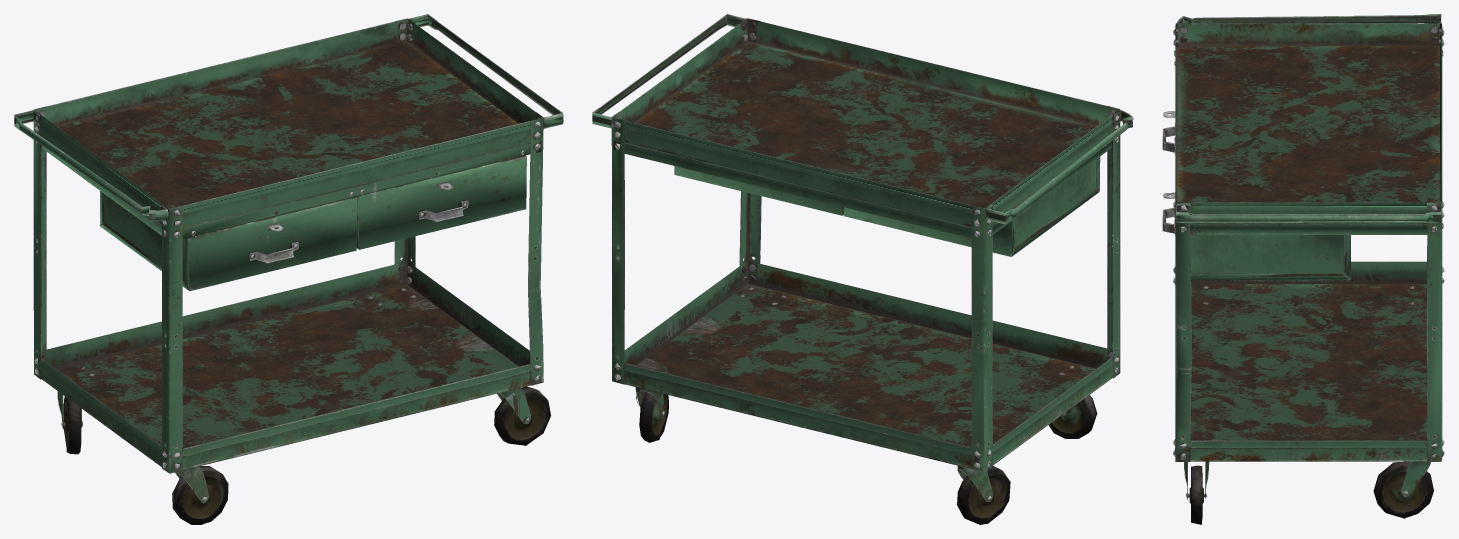
Rendered from tool_cart_game.gltf.
3 renders of one model, left to right at view 1: azimuth 30°, elevation 25°; view 2: azimuth 150°, elevation 25°; view 3: azimuth 270°, elevation 25°, orthographic. The views are drawn at different scales.
Parts seen in each view (by area): view 1: tool_cart; view 2: tool_cart; view 3: tool_cart.
Part boxes in pixels (box(x1,y1,x2,y2)): tool_cart: box(14, 14, 563, 524); tool_cart: box(592, 14, 1133, 524); tool_cart: box(1162, 14, 1444, 524).
Bounding box in the file's own units: 1.28 × 0.9647 × 0.7547.
1 material, 1 textured.
